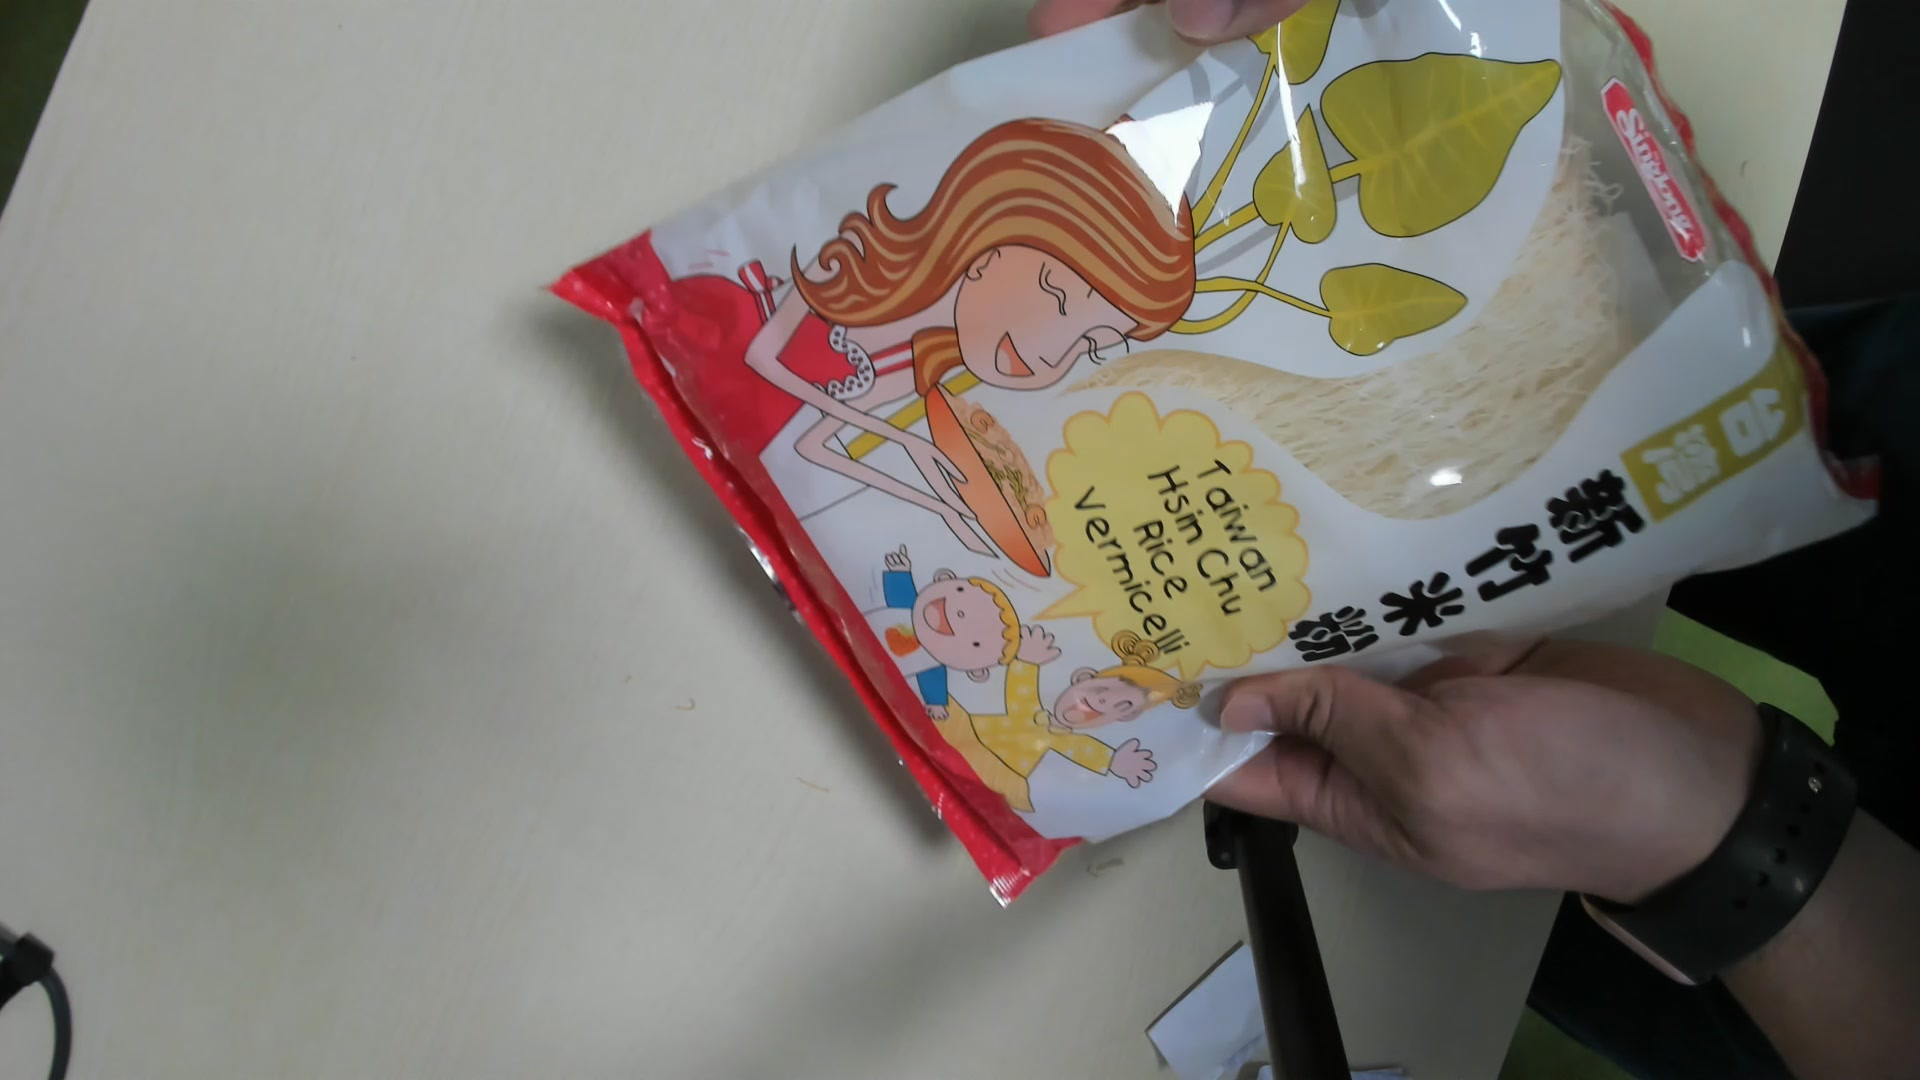BeeHoonVermicelli_0-99g_NonHalal_NonHealthy: (545, 5, 1884, 889)
